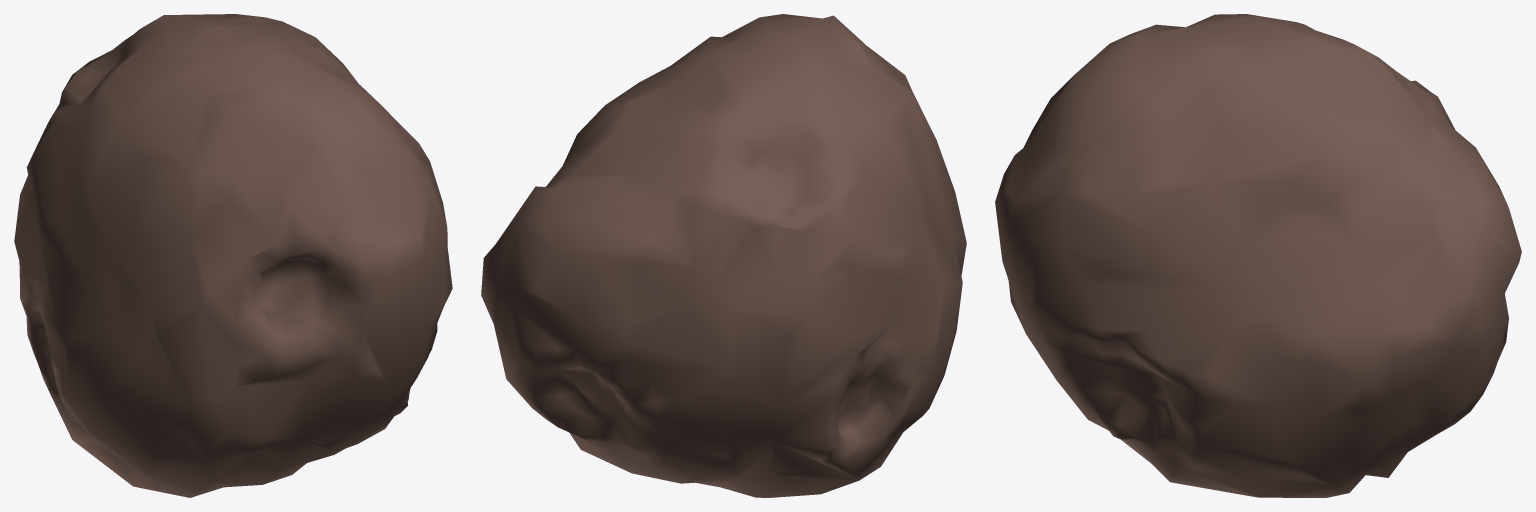
File: SM_Asteroid_Small.fbx
The picture shows the model from 3 angles, left to right: view 1: azimuth 30°, elevation 25°; view 2: azimuth 150°, elevation 25°; view 3: azimuth 270°, elevation 25°; orthographic projection. The views are drawn at different scales.
Visible parts, largest first — view 1: Asteroid_A; view 2: Asteroid_A; view 3: Asteroid_A.
Boxes of the visible parts, <box> form: Asteroid_A: <box>14,14,452,497</box>; Asteroid_A: <box>481,14,966,497</box>; Asteroid_A: <box>995,14,1521,497</box>.
Bounding box in the file's own units: 16.98 × 18.37 × 20.09.
